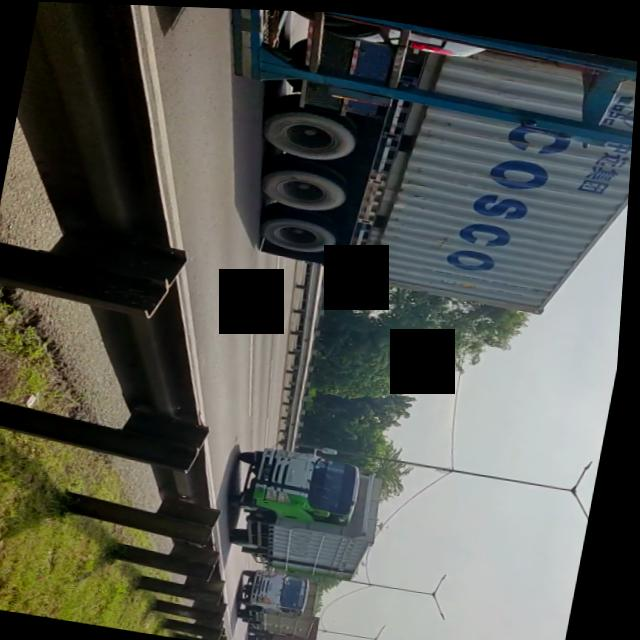Golongan II: (222, 432, 407, 583)
